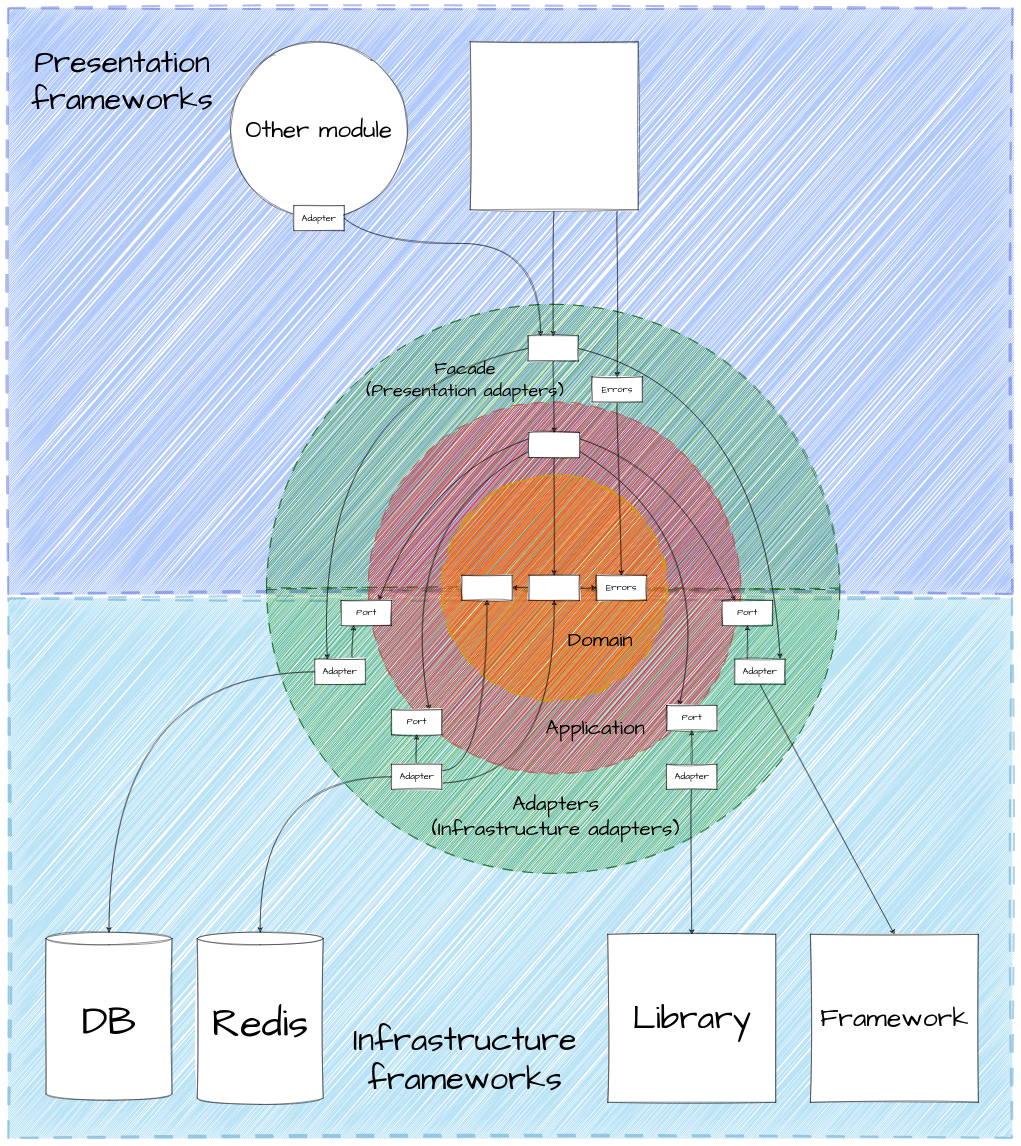
Some shapes in this 1021 by 1146 pixel diagram are drawn without their labels. The centre of each missing label's shape, as x and y in pixels:
API: the point at 554,125
Case: the point at 554,445
Controller: the point at 553,348
Entities: the point at 554,587
Value objects: the point at 486,587
